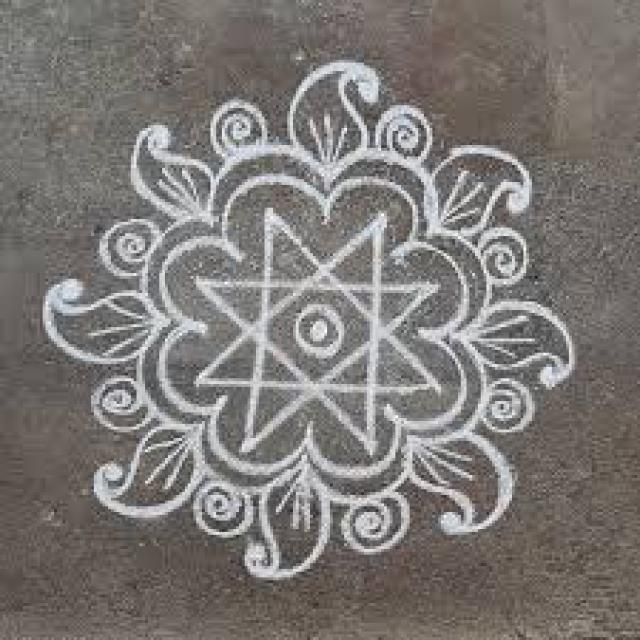rangoli: (31, 55, 522, 550)
